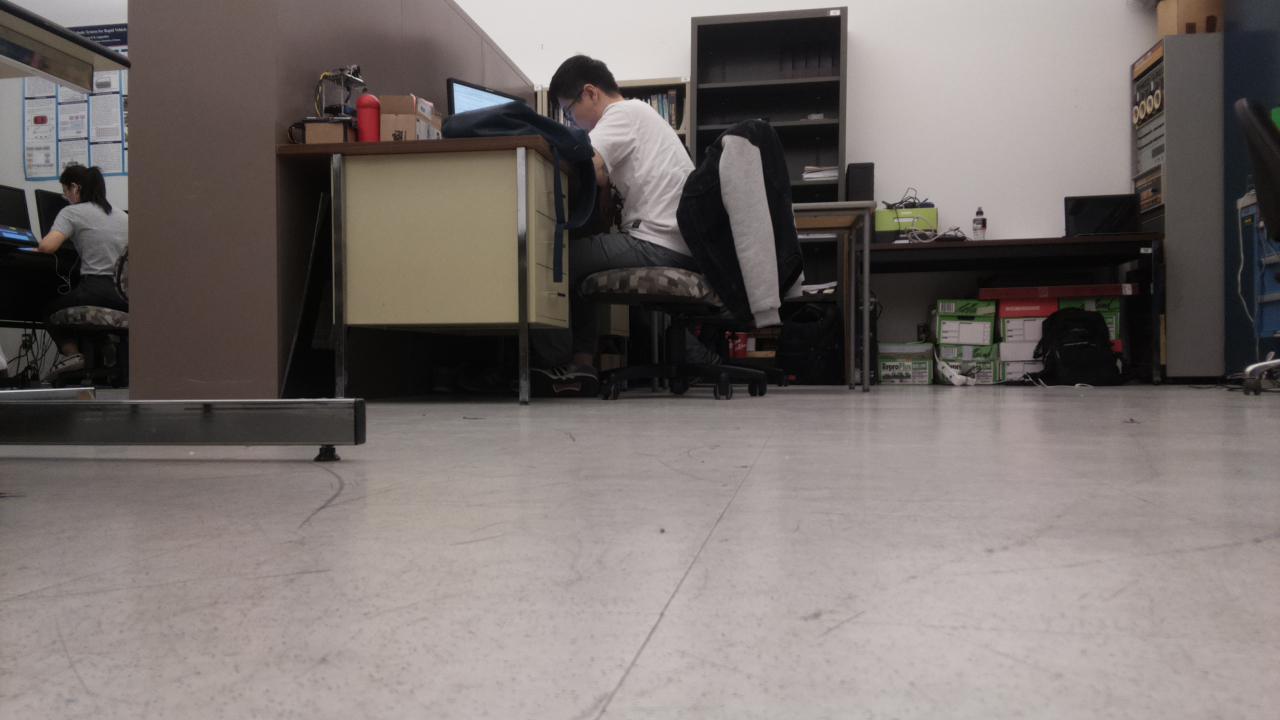person: (527, 55, 702, 399), (38, 165, 129, 381)
tvmonitor: (1064, 194, 1141, 236)
